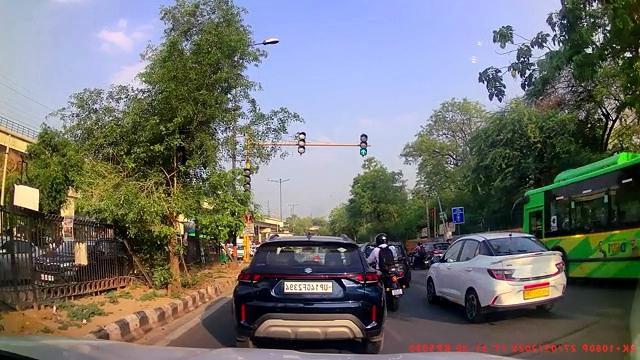motorcycle_with_helmet: (367, 231, 408, 311)
